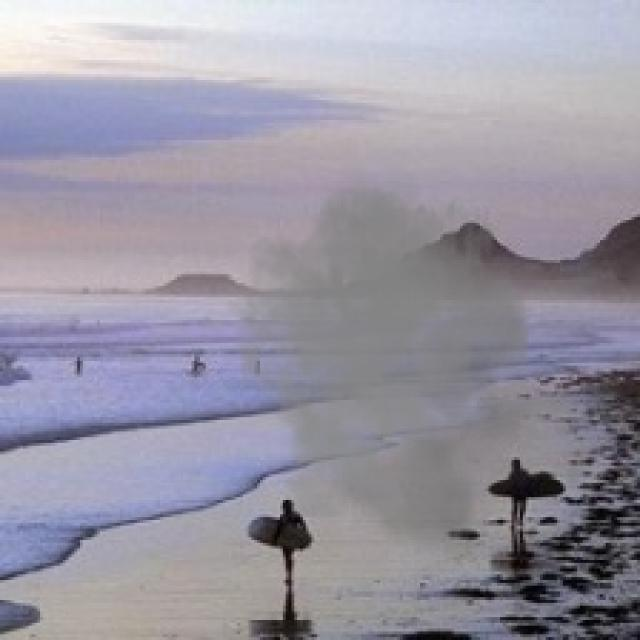Smoke: (225, 157, 638, 566)
